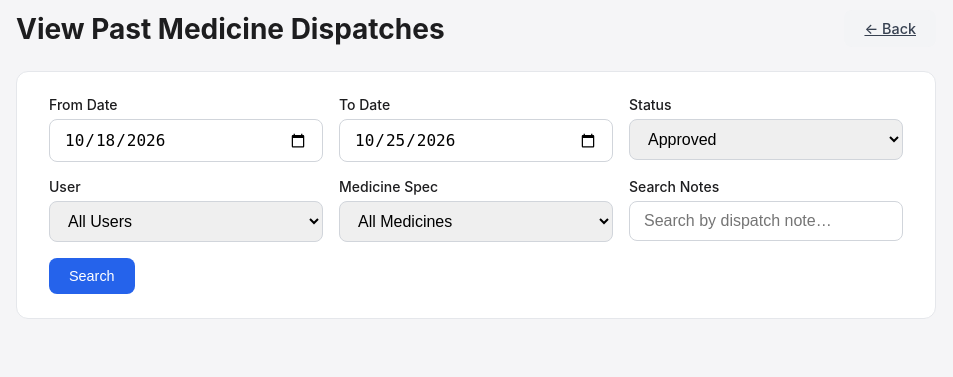
Test: ViewPastTransactions — search › shows empty state message when no transactions found
This screenshot has width=953, height=377.
Click the button "Search" at [92, 276], box [49,258,135,294]
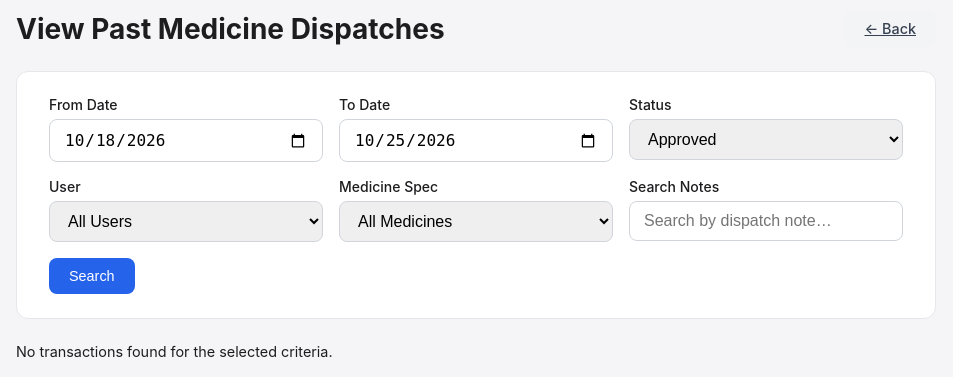
Check: the text "No transactions found for the selected criteria." is shown, box [16,343,332,360]
